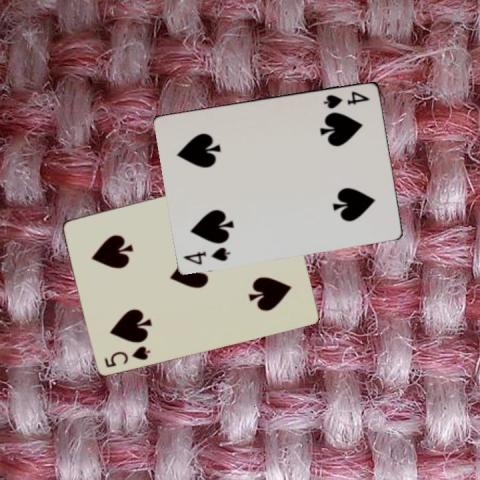4s: (181, 243, 232, 266), (321, 87, 371, 110)
5s: (101, 342, 152, 368)
